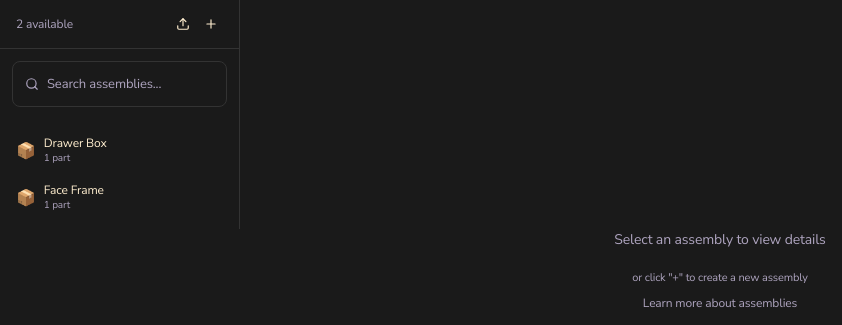
Test: AssembliesTab › search › filters assemblies by search term
The image size is (842, 325).
Type "Drawer" into the field with placeholder "Search assemblies...". click: (130, 84)
box: [47, 70, 214, 98]
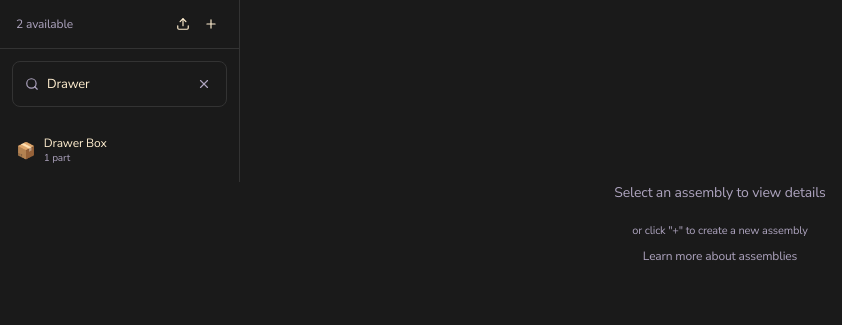
Expected: the text "Drawer Box" is shown, [44, 135, 107, 151]
Now the button "Face Frame" is gone
